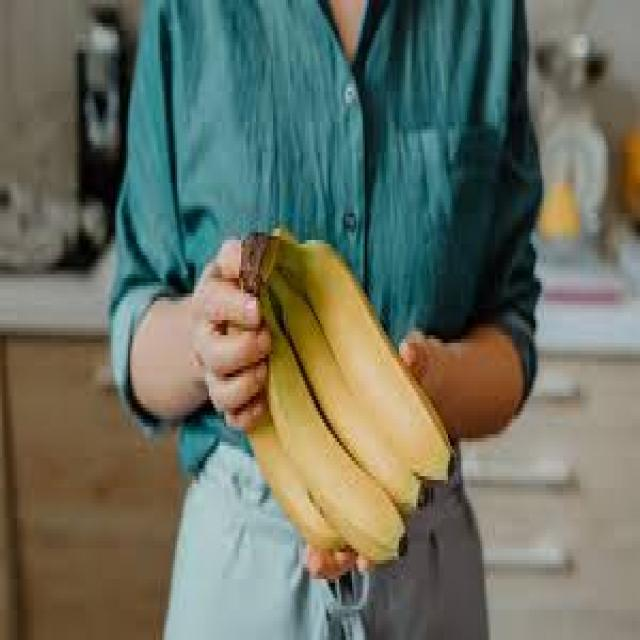Banana: (270, 270, 419, 515), (298, 243, 446, 479), (268, 335, 402, 561)
